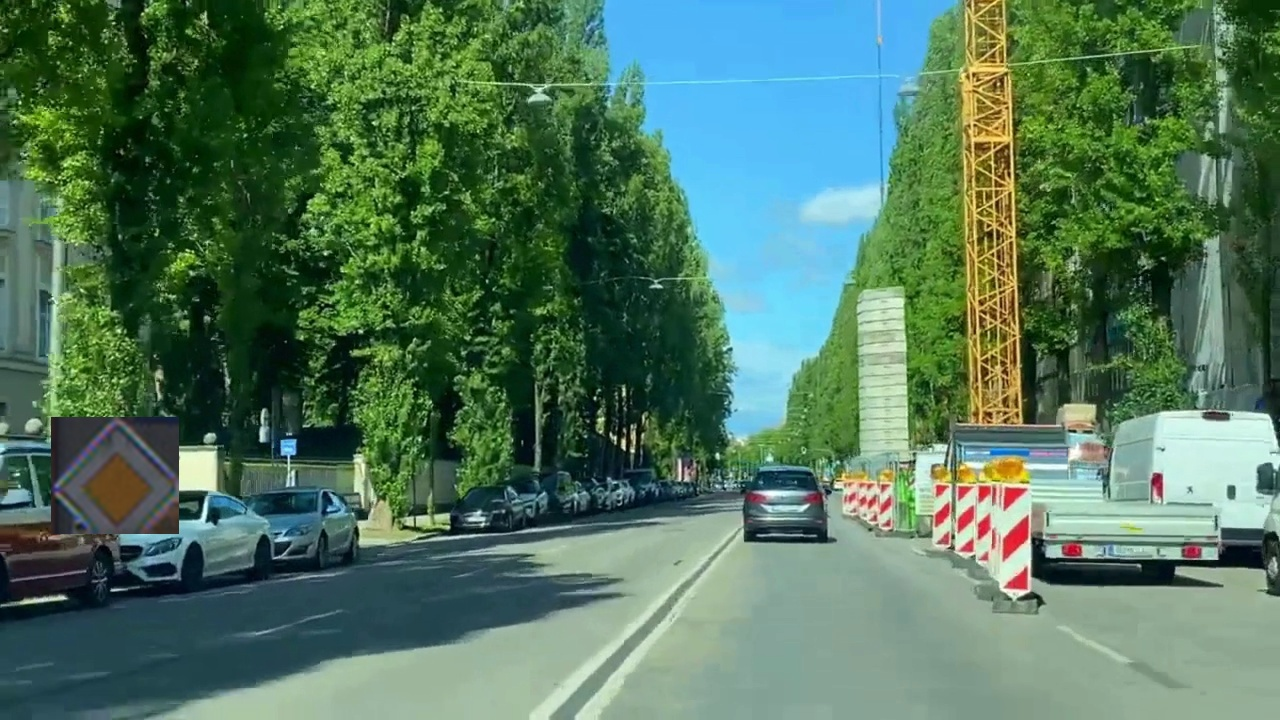Priority road: (51, 417, 179, 534)
